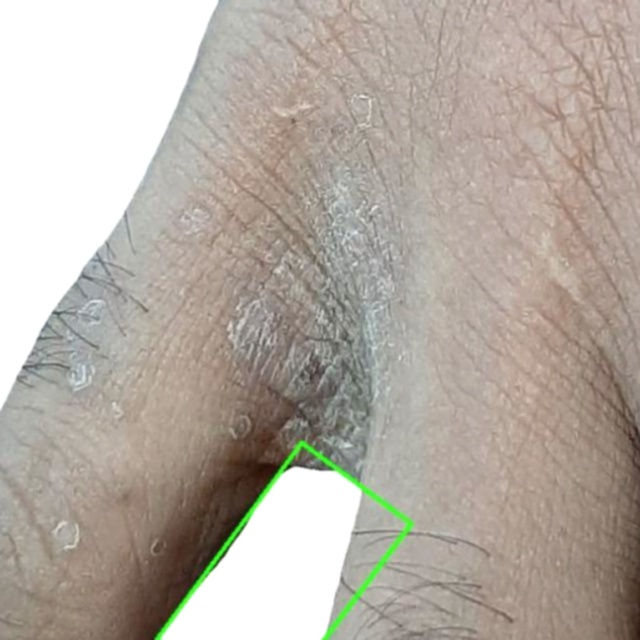Scabies: (156, 443, 410, 639)
